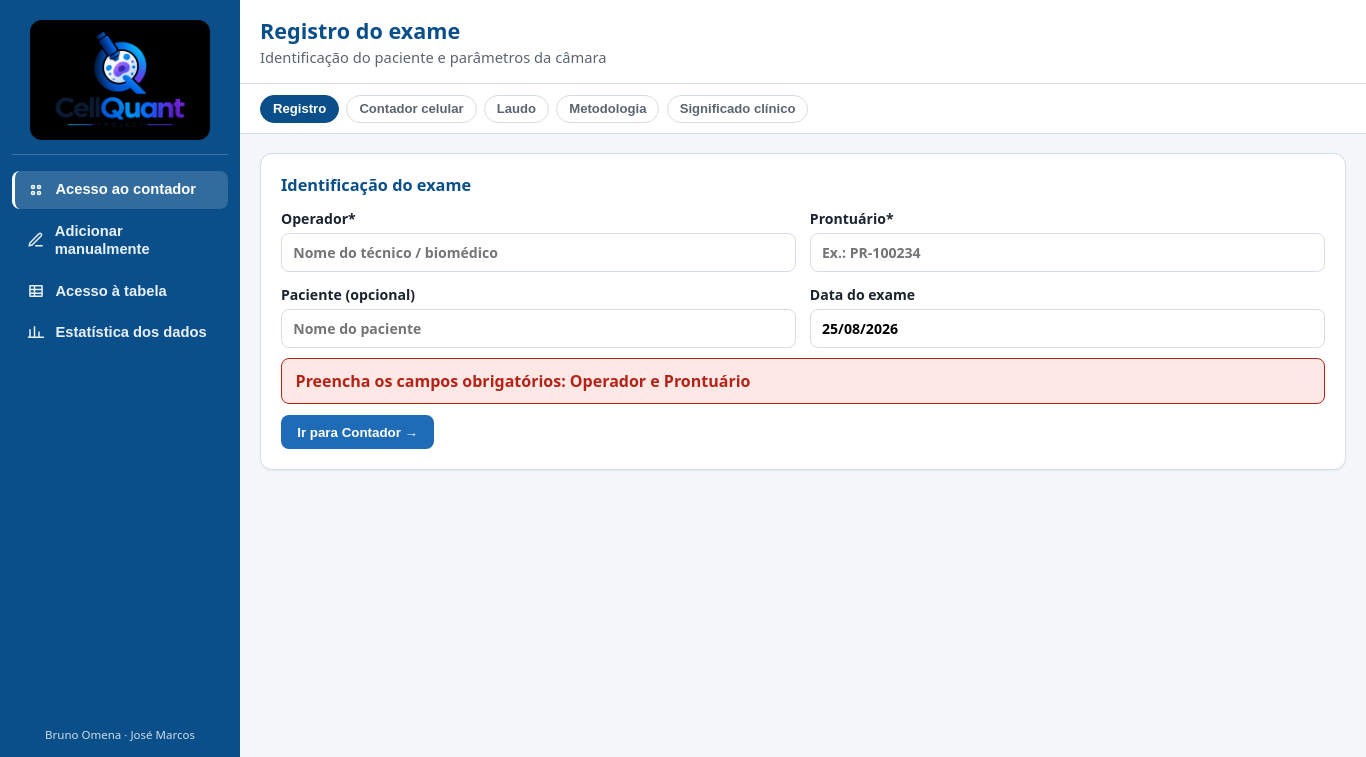
Test case: entrada manual › salva exame digitado e vai para a tabela
Click the button "Adicionar manualmente" at (120, 240), box [12,212,228,269]
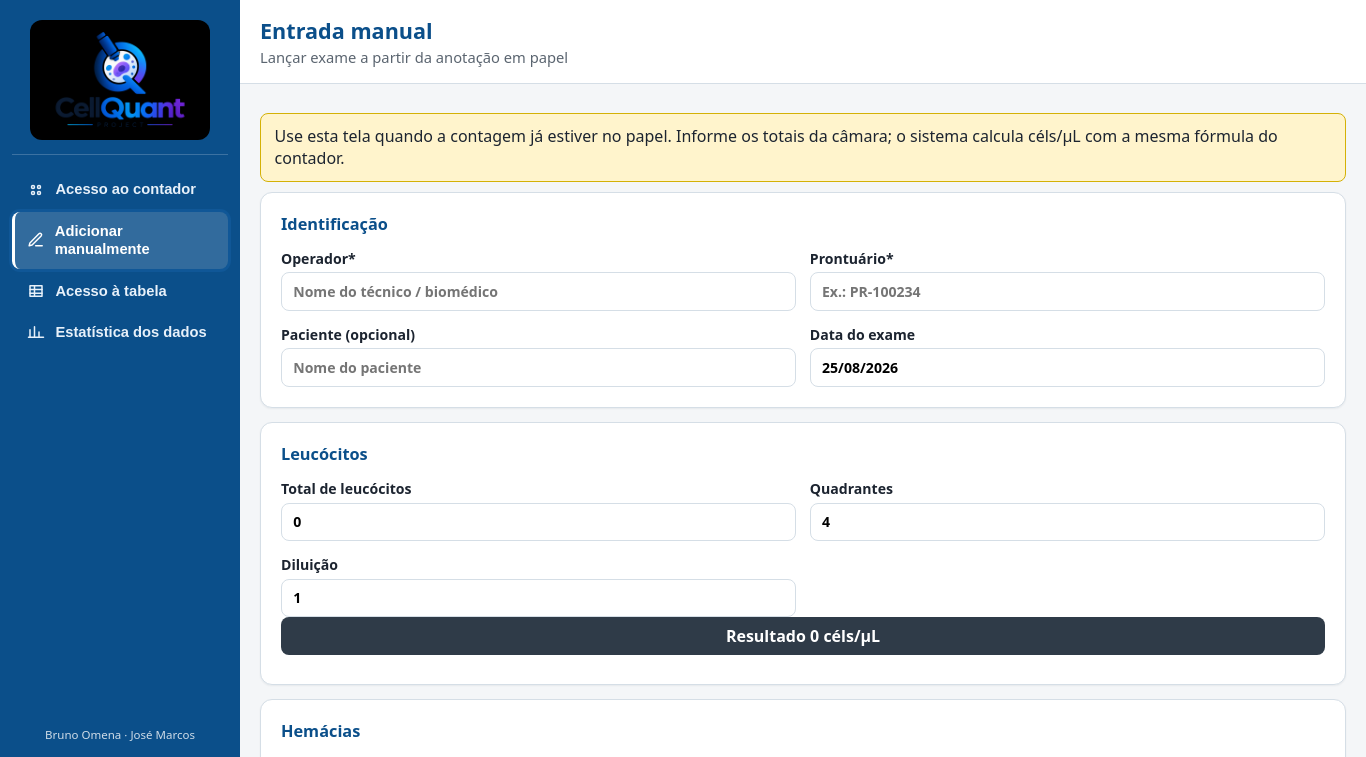
Check: the heading "Entrada manual" is shown, box [260,16,433,45]
Type "Ana" into the field with placeholder "Nome do técnico / biomédico" at (539, 292), box [281,272,796,311]
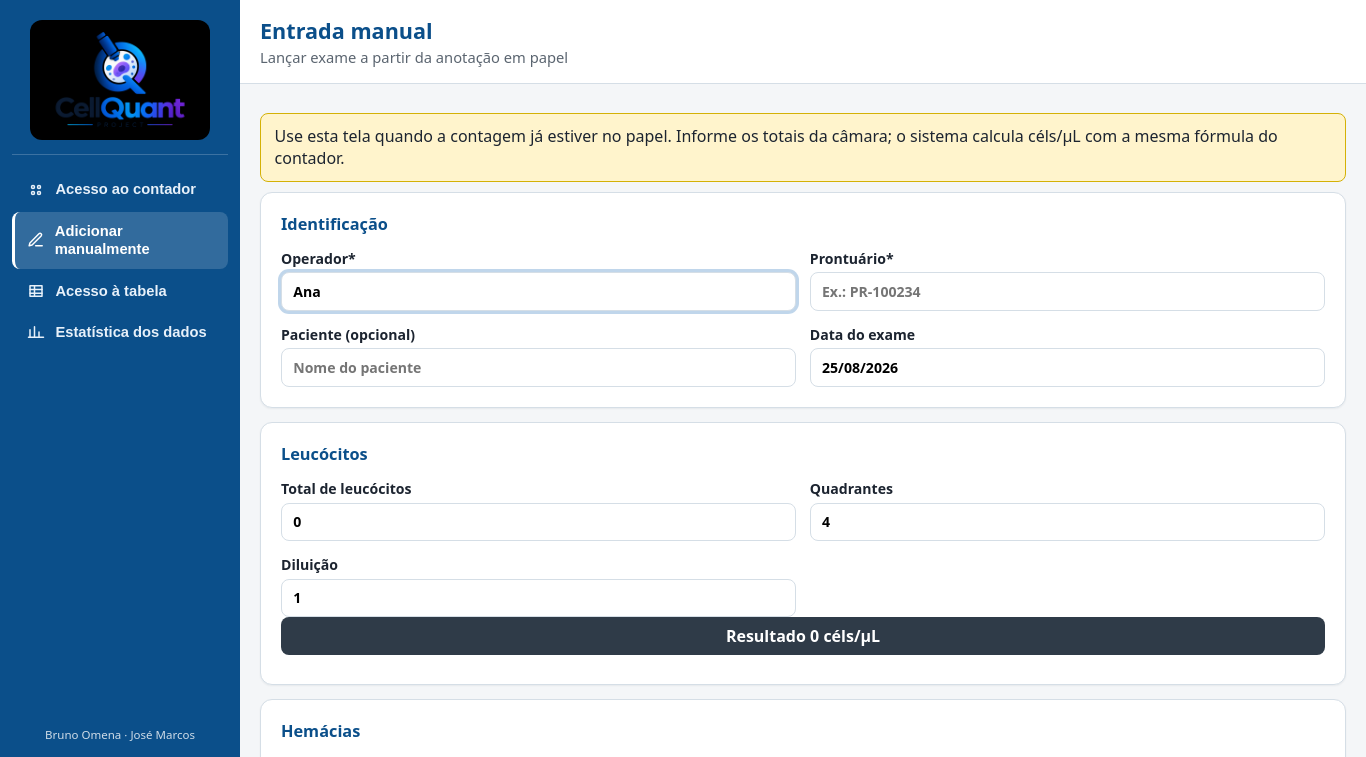
Type "PR-MAN" into the field with placeholder "Ex.: PR-100234" at (1067, 292), box [810,272,1325,311]
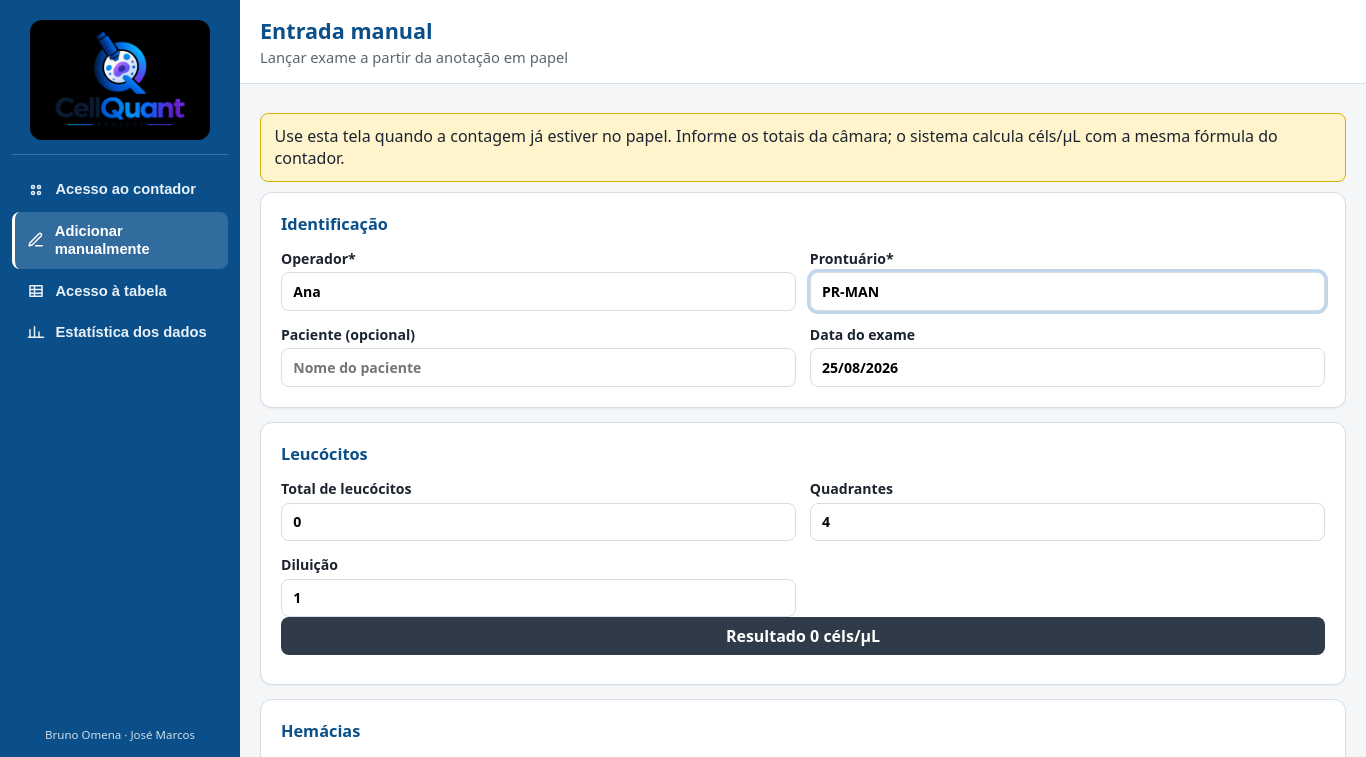
Type "8" into the number field labelled "Total de leucócitos" at (539, 522), box [281,503,796,541]
(page scrolled)
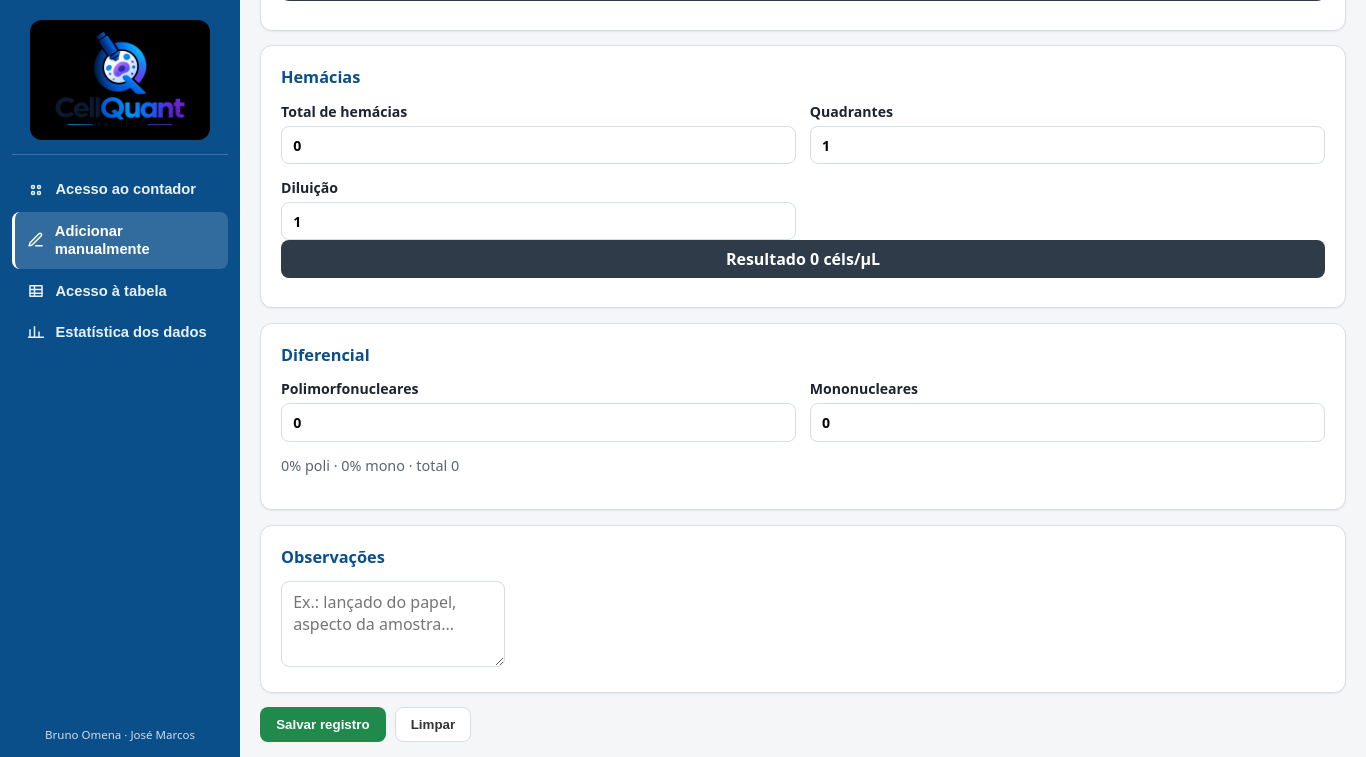
Click the button "Salvar registro" at (323, 725), box [260,707,386,742]
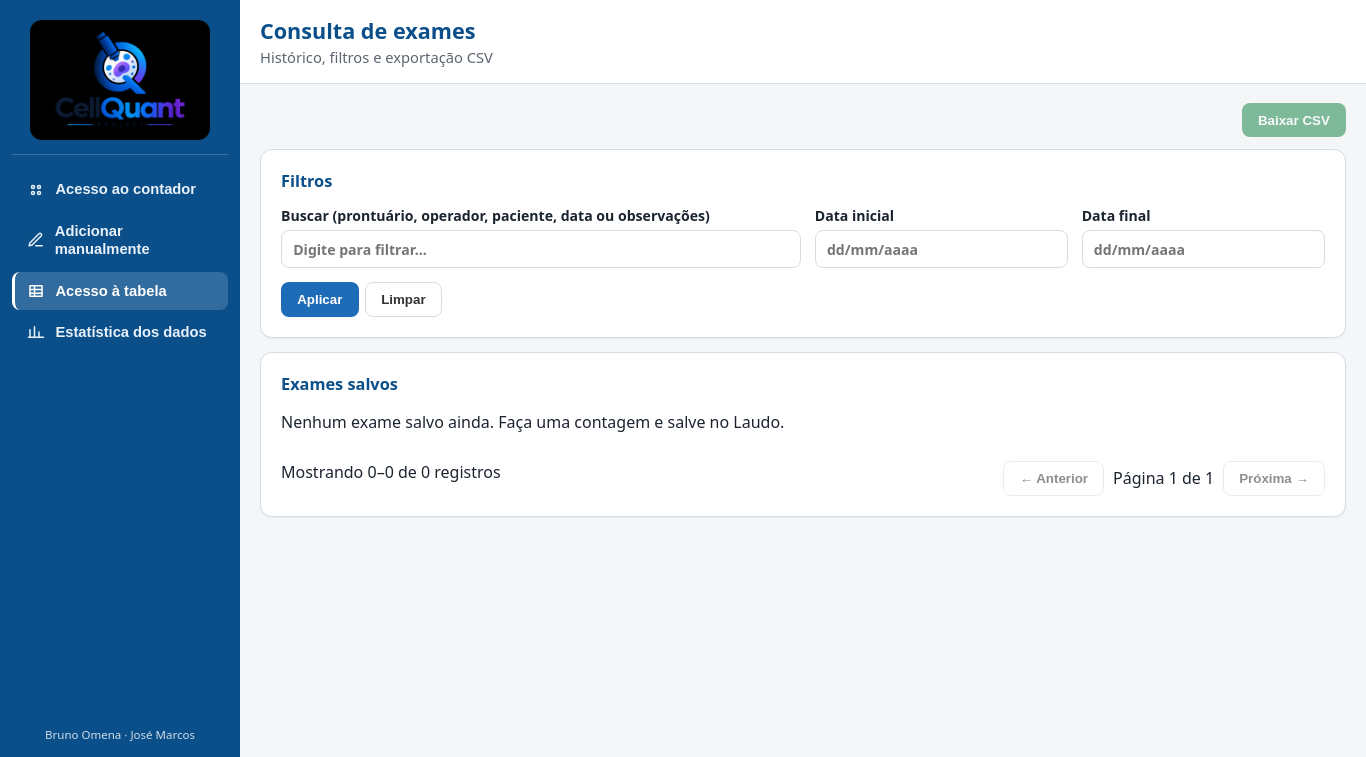
Check: the heading "Consulta de exames" is shown, box [260,16,493,45]
